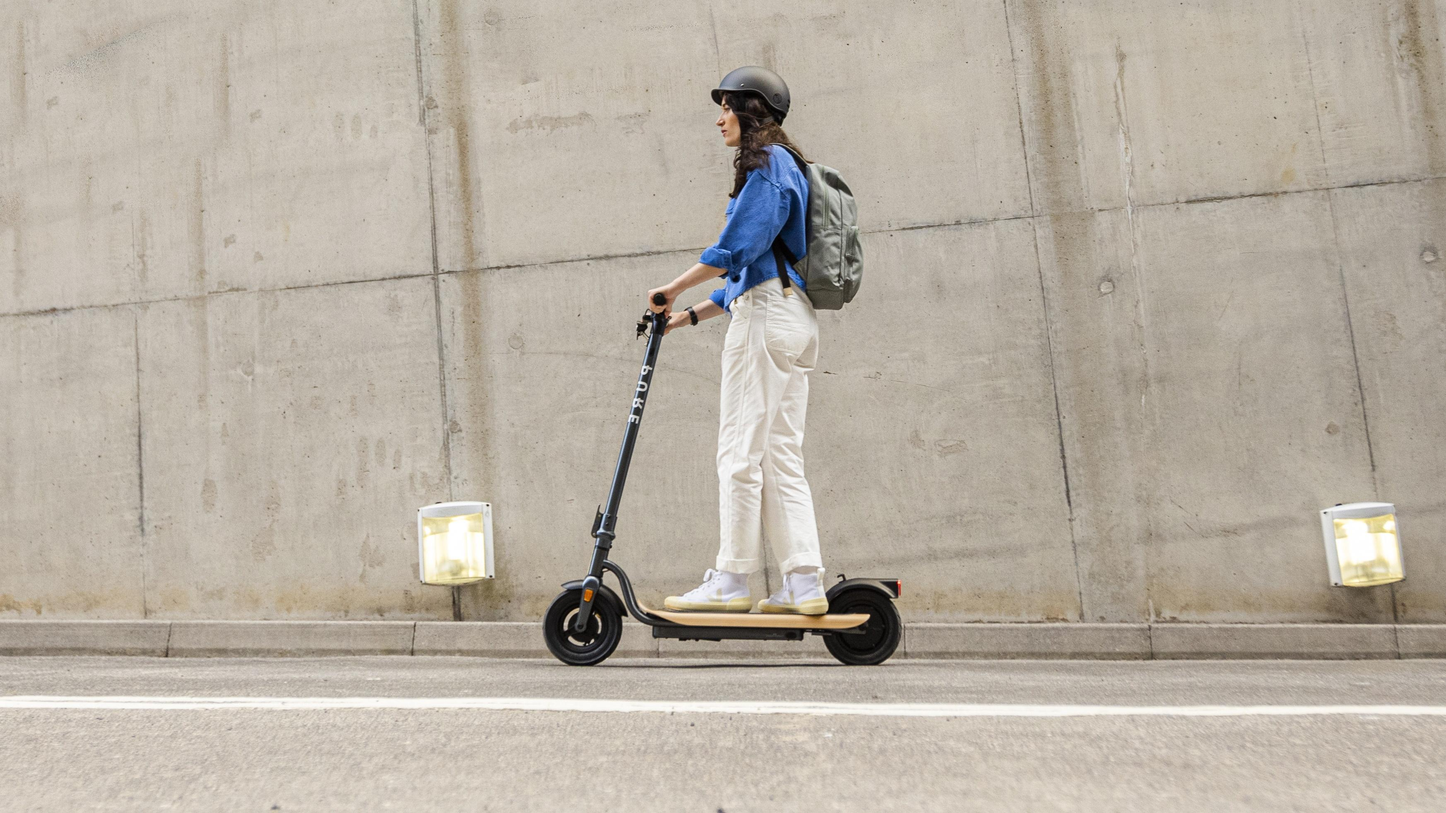helmet: (712, 62, 792, 156)
human: (628, 80, 824, 606)
kickboard: (540, 576, 909, 665)
